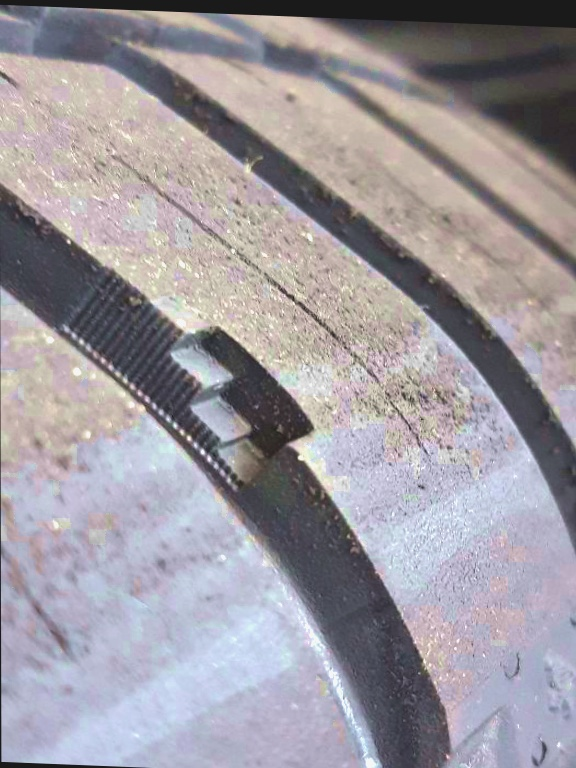temoin:75: (98, 288, 324, 506)
